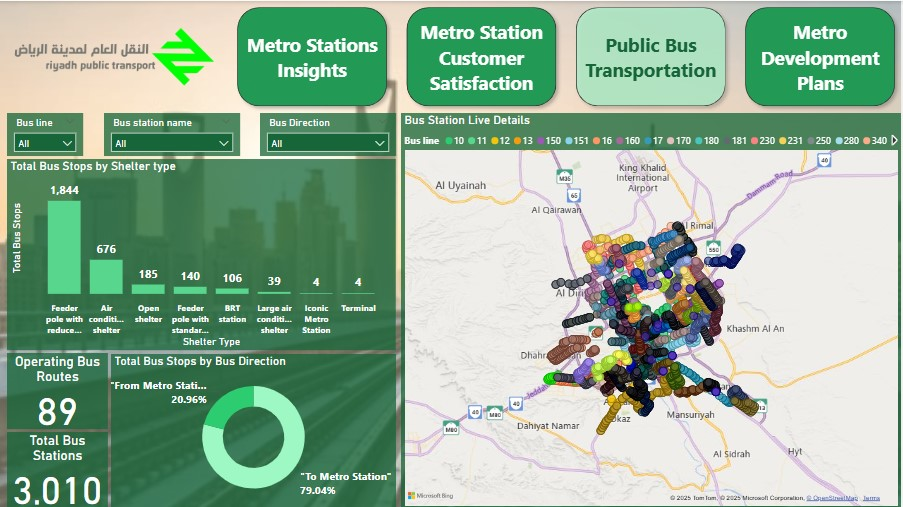

The page's visual inventory and layout, read from the dashboard file:
{"tool":"powerbi","page":{"name":"Public Bus Transportation","canvas":[1280,720],"ordinal":3},"visuals":[{"type":"columnChart","fields":{"Y":["__Measures.Total Bus Stops"],"Category":["Riydh Bus Stops by Direction & Shelter.Shelter type"]},"box":[12.8,224,550.8,271.1],"z":0},{"type":"card","title":"Total Bus Stations","fields":{"Values":["__Measures.Total Bus Stops"]},"box":[12.8,610.9,143.1,107.7],"z":1000},{"type":"card","title":"Operating Bus Routes","fields":{"Values":["Count(Riydh Bus Stops by Direction & Shelter.Bus line)"]},"box":[12.8,498.9,143.1,107.7],"z":2000},{"type":"donutChart","fields":{"Category":["Riydh Bus Stops by Direction & Shelter.Bus Direction"],"Y":["__Measures.Total Bus Stops"]},"box":[160.2,500.3,403.9,216.9],"z":3000},{"type":"image","box":[0,0,329.6,158.4],"z":4000},{"type":"slicer","fields":{"Values":["Riydh Bus Stops by Direction & Shelter.Bus station name"]},"box":[149.8,158.4,192.6,61.4],"z":5000},{"type":"slicer","fields":{"Values":["Riydh Bus Stops by Direction & Shelter.Bus line"]},"box":[12.8,158.4,108.5,61.4],"z":6000},{"type":"map","title":"Bus Station Live Details","fields":{"Y":["Riydh Bus Stops by Direction & Shelter.Latitude"],"X":["Riydh Bus Stops by Direction & Shelter.Longitude"],"Series":["Riydh Bus Stops by Direction & Shelter.Bus line"]},"box":[570.8,158.4,709.2,562.2],"z":7000},{"type":"slicer","fields":{"Values":["Riydh Bus Stops by Direction & Shelter.Bus Direction"]},"box":[371,158.4,192.6,61.4],"z":8000},{"type":"pageNavigator","box":[329.6,0,950.4,158.4],"z":9000}]}

Visuals, with their boxes in screenshot pixels (x1, y1, x2, y2), scaled from the page's 1280x720 canvas onto the 903x507 screenshot:
columnChart - __Measures.Total Bus Stops x Riydh Bus Stops by Direction & Shelter.Shelter type: select_region(9, 158, 398, 349)
"Total Bus Stations" card: select_region(9, 430, 110, 506)
"Operating Bus Routes" card: select_region(9, 351, 110, 427)
donutChart - Riydh Bus Stops by Direction & Shelter.Bus Direction x __Measures.Total Bus Stops: select_region(113, 352, 398, 505)
image: select_region(0, 0, 233, 112)
slicer - Riydh Bus Stops by Direction & Shelter.Bus station name: select_region(106, 112, 242, 155)
slicer - Riydh Bus Stops by Direction & Shelter.Bus line: select_region(9, 112, 86, 155)
"Bus Station Live Details" map: select_region(403, 112, 902, 506)
slicer - Riydh Bus Stops by Direction & Shelter.Bus Direction: select_region(262, 112, 398, 155)
pageNavigator: select_region(233, 0, 902, 112)
